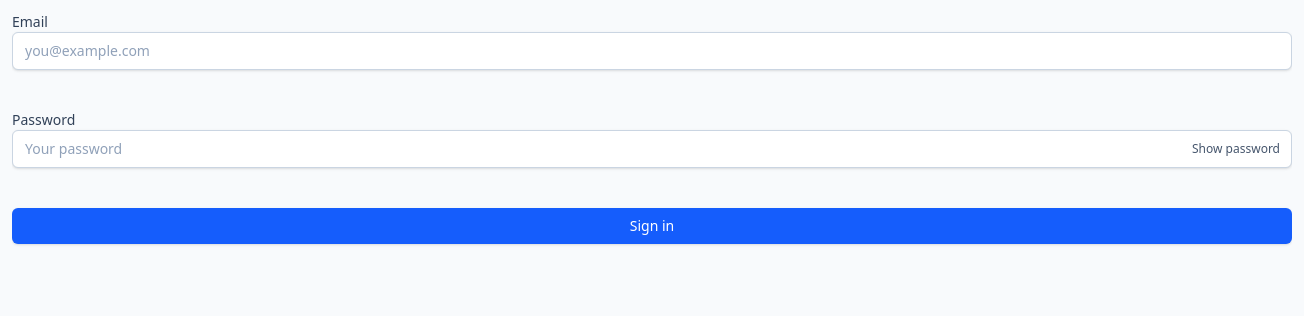
Test: LoginForm › error handling › shows too_many_attempts error on 429 response
The width and height of the screenshot is (1304, 316).
Type "valid@example.com" into the field labelled "Email" at [652, 51], box left=12, top=32, right=1292, bottom=70
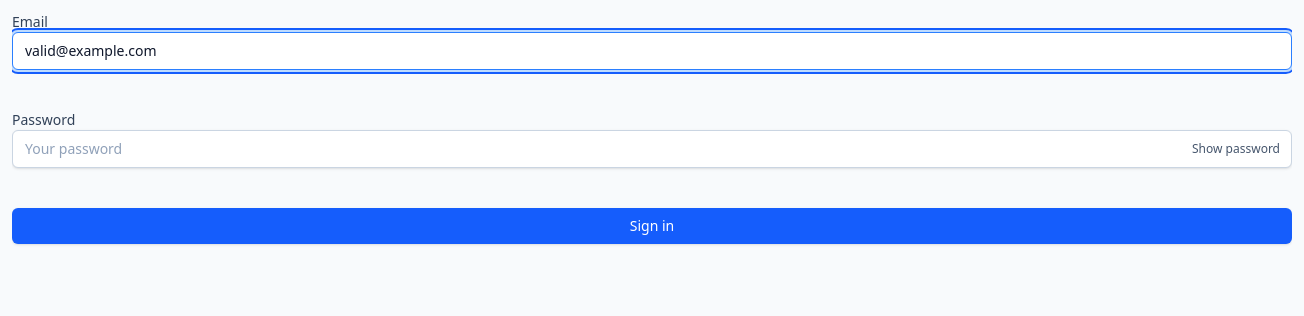
Type "password123" into the password field labelled "Password" at [652, 149], box left=12, top=130, right=1292, bottom=168
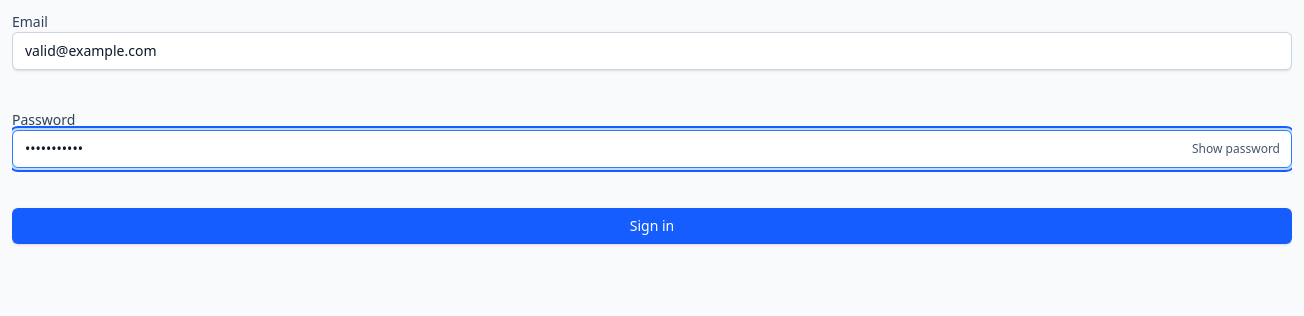
Click the button "Sign in" at [652, 226], box left=12, top=208, right=1292, bottom=244
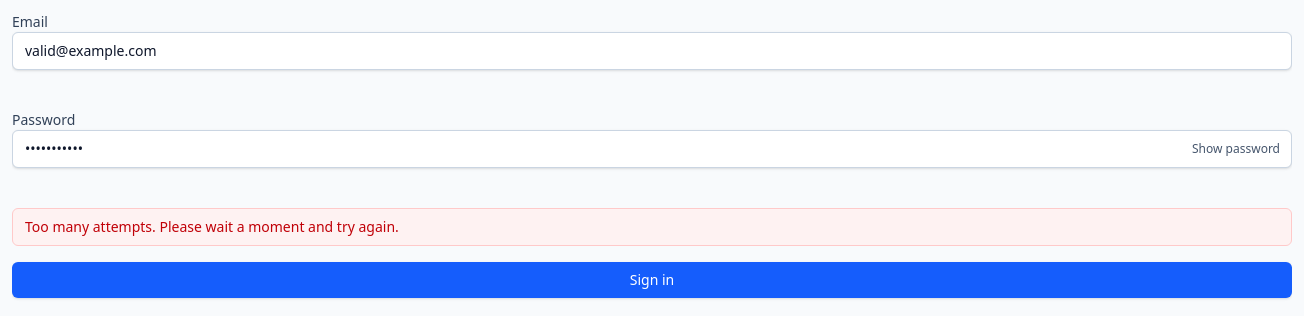
Expected: the text "Too many attempts. Please wait a moment and try again." is shown, left=12, top=208, right=1292, bottom=246
